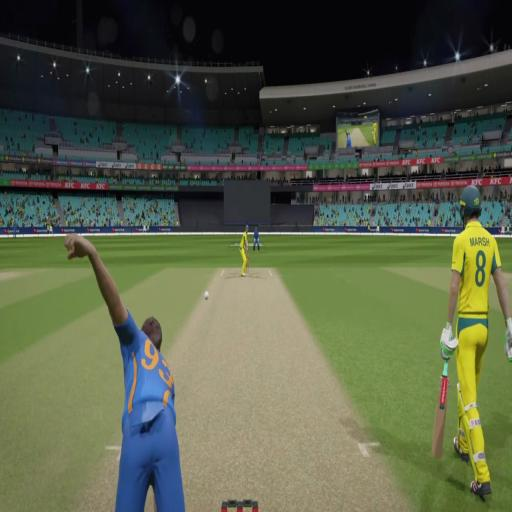ball: (204, 290, 209, 299)
